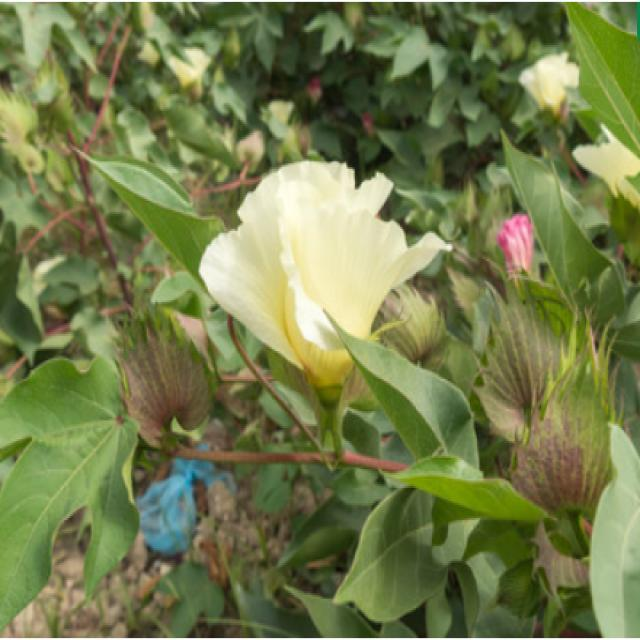Cotton Blossom: (202, 159, 449, 435), (518, 40, 590, 114), (489, 210, 549, 278)
Cotton Bud: (460, 280, 619, 516), (106, 298, 217, 447)
